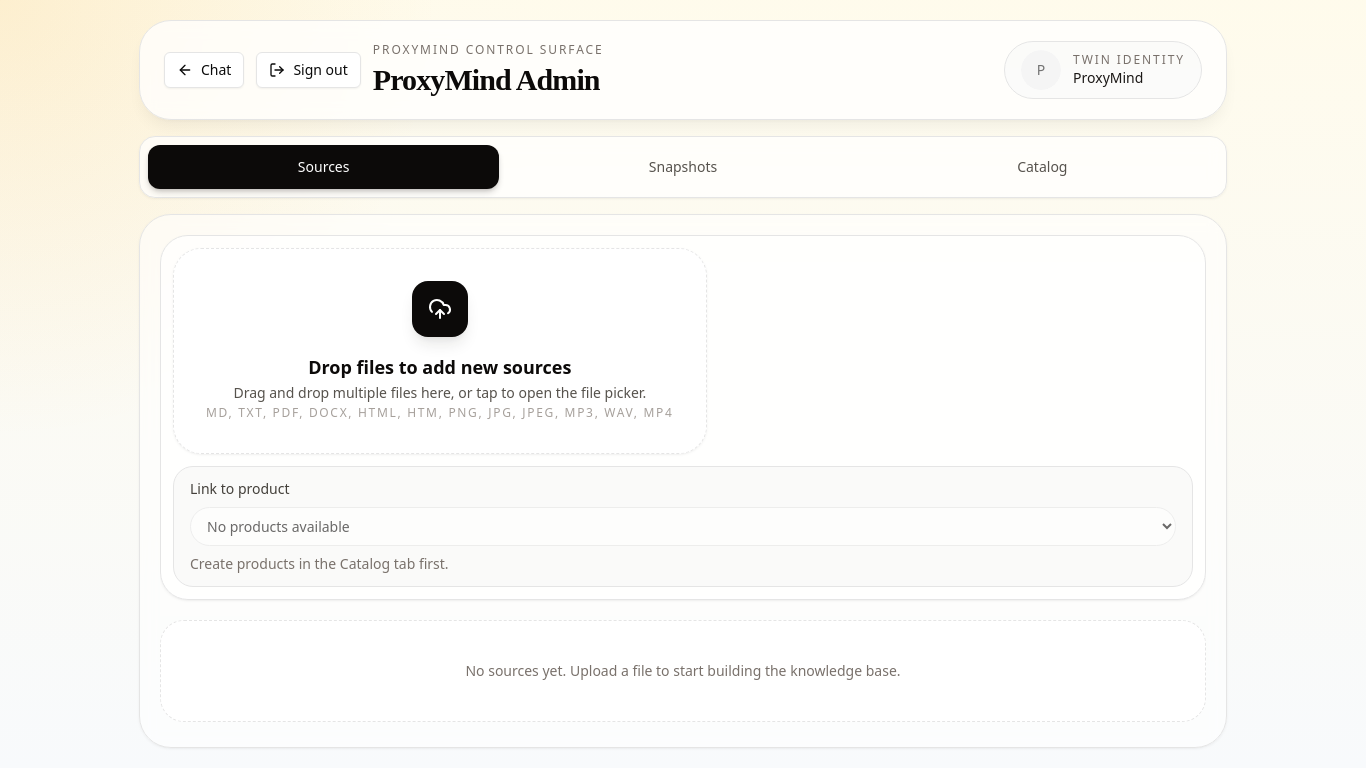
Test: Admin routes integration › renders the snapshots tab and switches via top navigation
Click the link "Snapshots" at (683, 166), box [649,157,717,176]
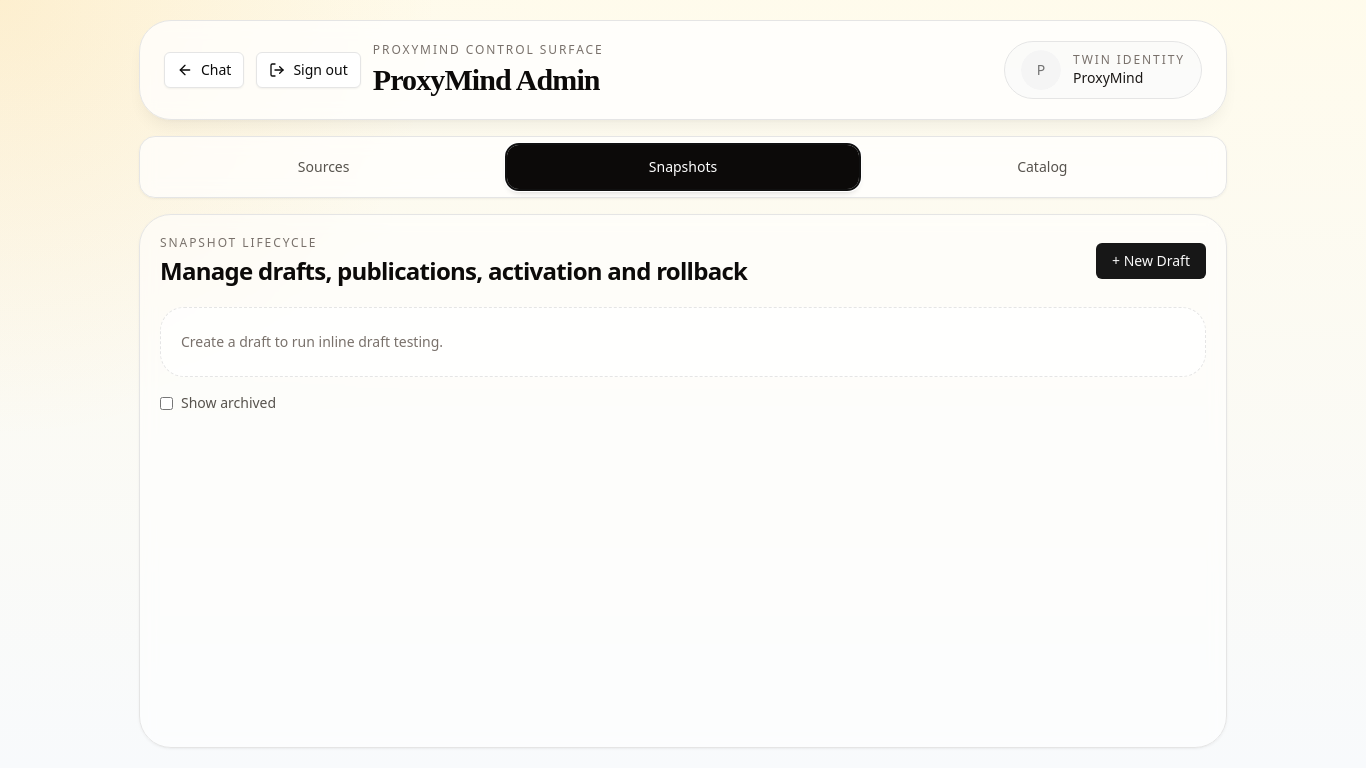
Expected: the heading "Manage drafts, publications, activation and rollback" is shown, [160,255,747,287]
Click the link "Catalog" at (1042, 166), box [1017,157,1068,176]
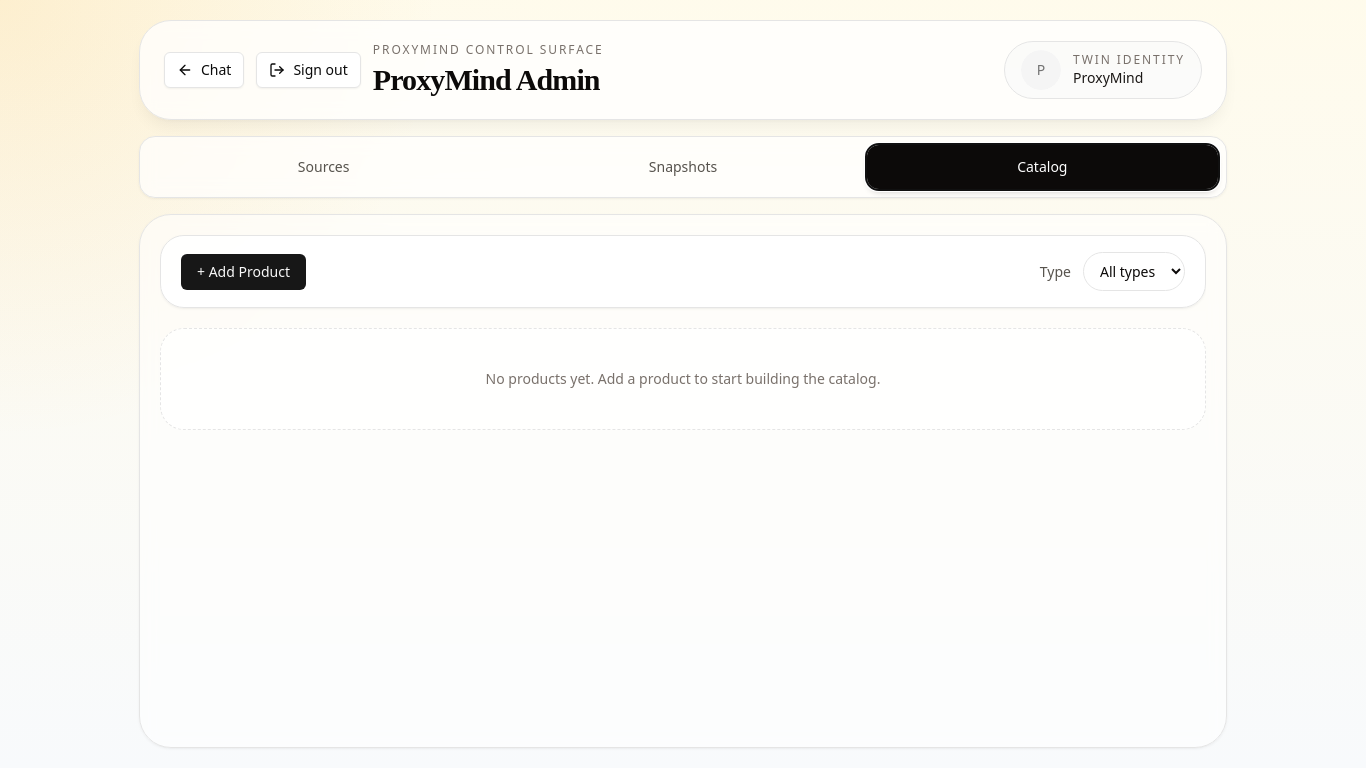
Expected: the button "+ Add Product" is shown, [181,254,306,290]
